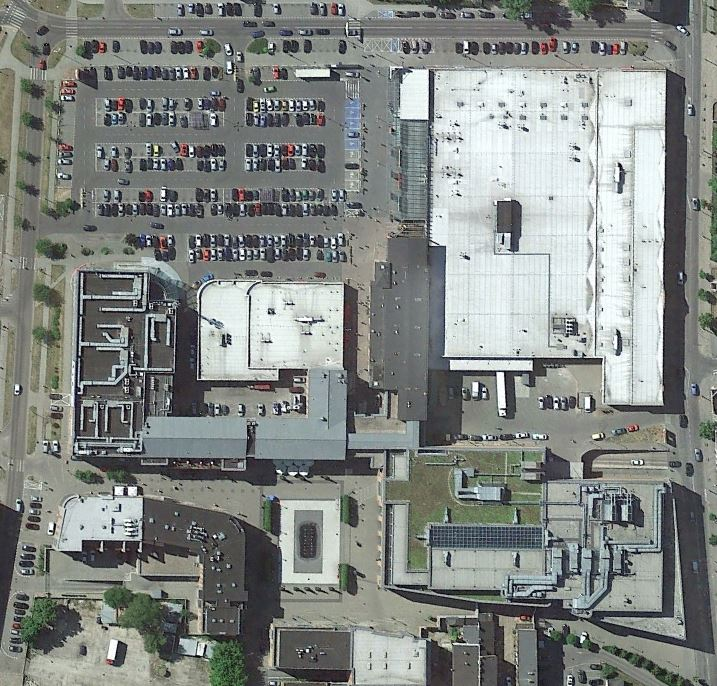block of flats: (48, 480, 259, 643), (266, 619, 433, 685), (450, 617, 542, 686)
shopping_center: (362, 62, 673, 423), (381, 444, 696, 650), (67, 265, 356, 465)
